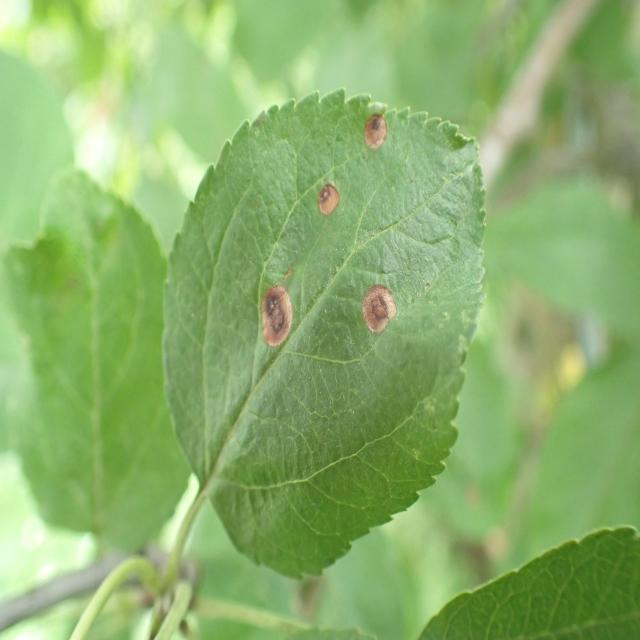frog-eye-leaf-spot: (161, 89, 487, 583)
